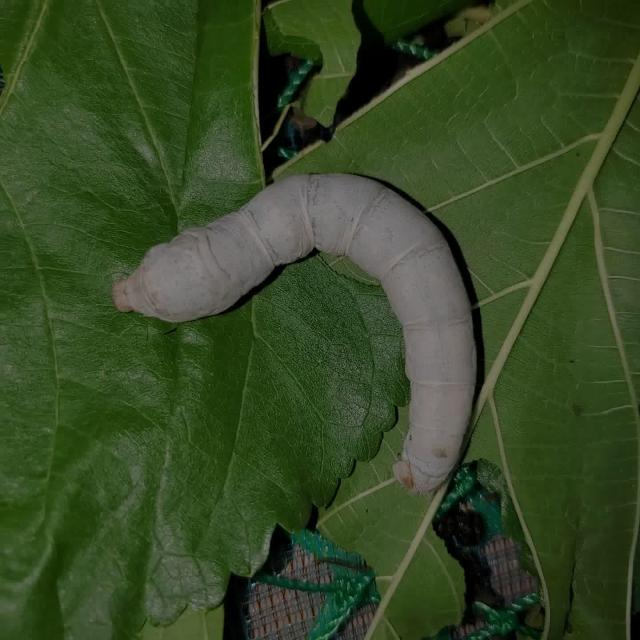Healthy: (92, 150, 497, 497)
